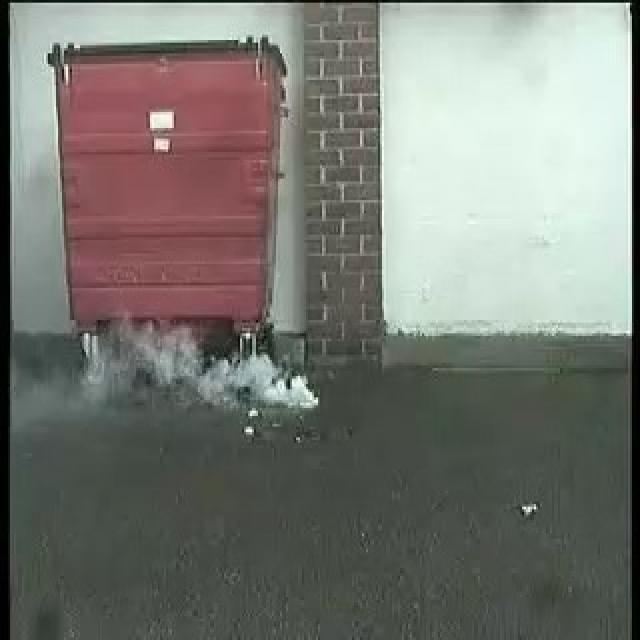smoke: (79, 316, 323, 411)
